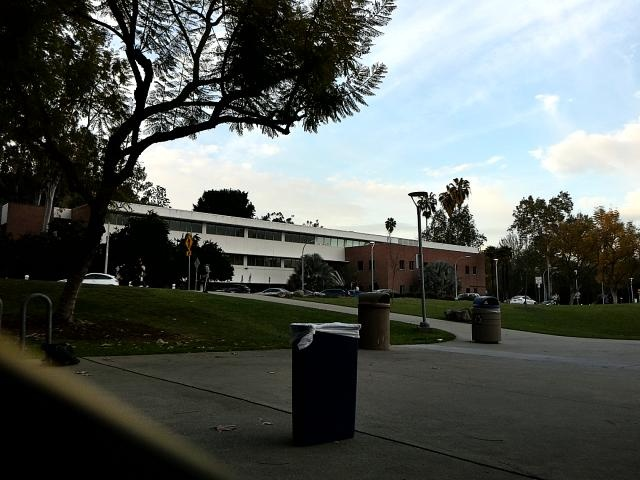trashcan_open: (286, 321, 361, 453)
